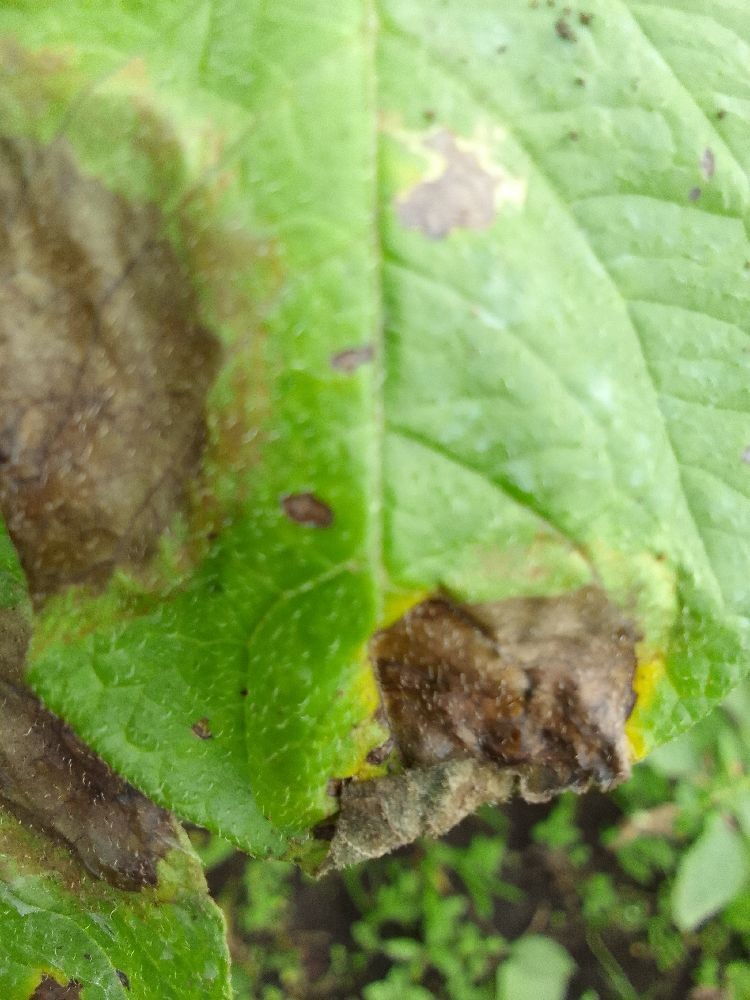late_blight: (139, 518, 750, 1000), (0, 120, 276, 913), (273, 486, 341, 535)
